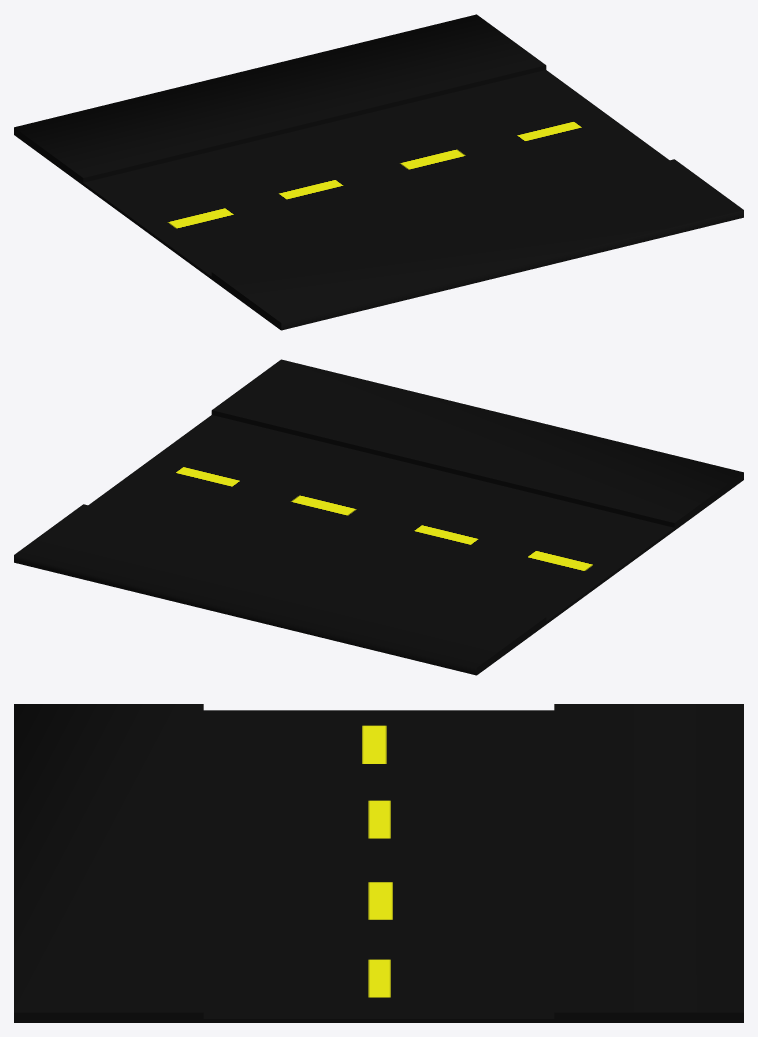
File: road6.FBX
3 renders of one model, top to bottom at view 1: azimuth 30°, elevation 25°; view 2: azimuth 150°, elevation 25°; view 3: azimuth 270°, elevation 25°, orthographic. The views are drawn at different scales.
Visible parts, largest first — view 1: Box001; view 2: Box001; view 3: Box001.
Boxes of the visible parts, x1,y1,x2,y2 form: Box001: [14, 14, 743, 330]; Box001: [14, 359, 743, 675]; Box001: [14, 704, 743, 1022].
Bounding box in the file's own units: 49 × 0.7711 × 49.
